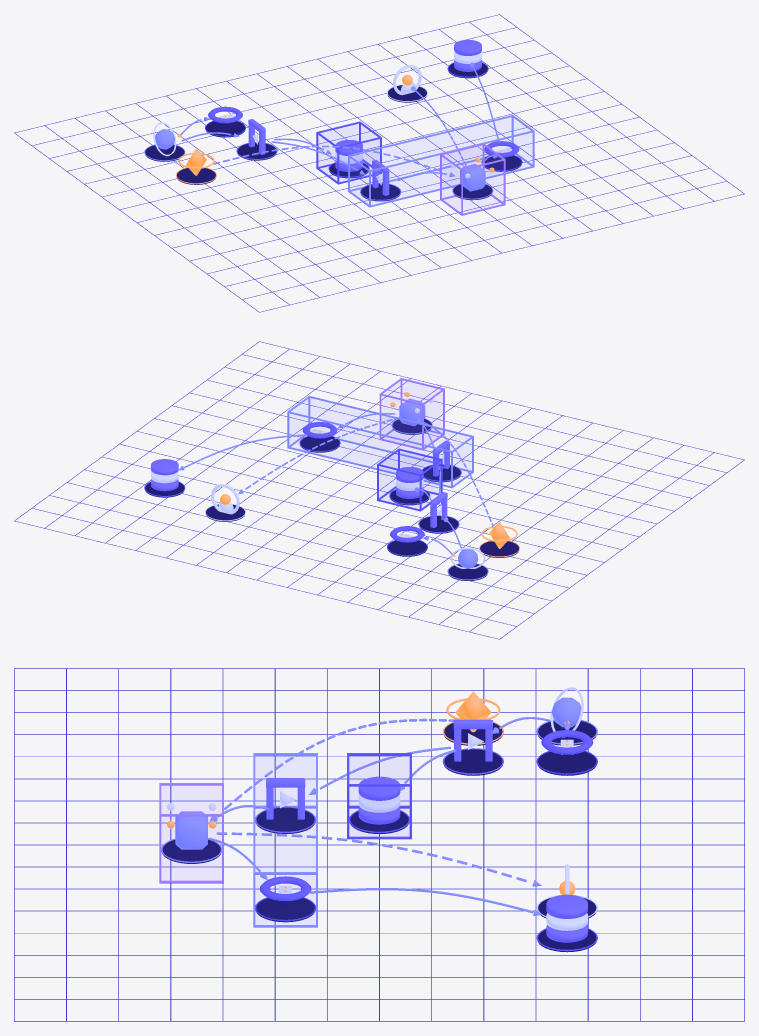
The model's file is aws.glb.
The picture shows the model from 3 angles, top to bottom: view 1: azimuth 30°, elevation 25°; view 2: azimuth 150°, elevation 25°; view 3: azimuth 270°, elevation 25°; orthographic projection. The views are drawn at different scales.
Visible parts, largest first — view 1: floor, group_Public_subnet, group_Private_subnet, group_Storage, mesh_ec2_core, mesh_ssm_pad, mesh_r53_pad; view 2: floor, group_Public_subnet, group_Private_subnet, group_Storage, mesh_r53_pad, mesh_ssm_pad; view 3: floor, group_Public_subnet, group_Storage, mesh_ec2_core, mesh_r53_pad, mesh_cf_pad, mesh_nat_pad, mesh_alb_pad, group_Private_subnet, mesh_ec2_pad, mesh_atlas_disc2, mesh_s3_disc2 (+9 smaller).
Part boxes in pixels (x1,y1,x2,y2): floor: [14, 14, 744, 312]; group_Public_subnet: [348, 115, 534, 207]; group_Private_subnet: [440, 143, 505, 215]; group_Storage: [316, 121, 381, 184]; mesh_ec2_core: [460, 164, 485, 191]; mesh_ssm_pad: [177, 168, 215, 184]; mesh_r53_pad: [206, 121, 244, 137]; floor: [14, 341, 744, 639]; group_Public_subnet: [287, 395, 473, 488]; group_Private_subnet: [379, 378, 444, 450]; group_Storage: [377, 448, 442, 511]; mesh_r53_pad: [388, 540, 426, 556]; mesh_ssm_pad: [480, 541, 518, 557]; floor: [14, 668, 744, 1021]; group_Public_subnet: [253, 753, 317, 927]; group_Storage: [347, 753, 411, 839]; mesh_ec2_core: [175, 811, 207, 849]; mesh_r53_pad: [537, 751, 596, 775]; mesh_cf_pad: [444, 749, 502, 775]; mesh_nat_pad: [256, 898, 314, 922]; mesh_alb_pad: [256, 807, 314, 833]; group_Private_subnet: [159, 783, 223, 883]; mesh_ec2_pad: [162, 839, 220, 863]; mesh_atlas_disc2: [546, 894, 587, 918]; mesh_s3_disc2: [358, 776, 400, 800].
Bounding box in the file's own units: 32.03 × 2.99 × 28.03.
